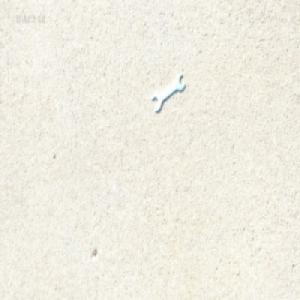Wrench: (152, 73, 185, 112)
